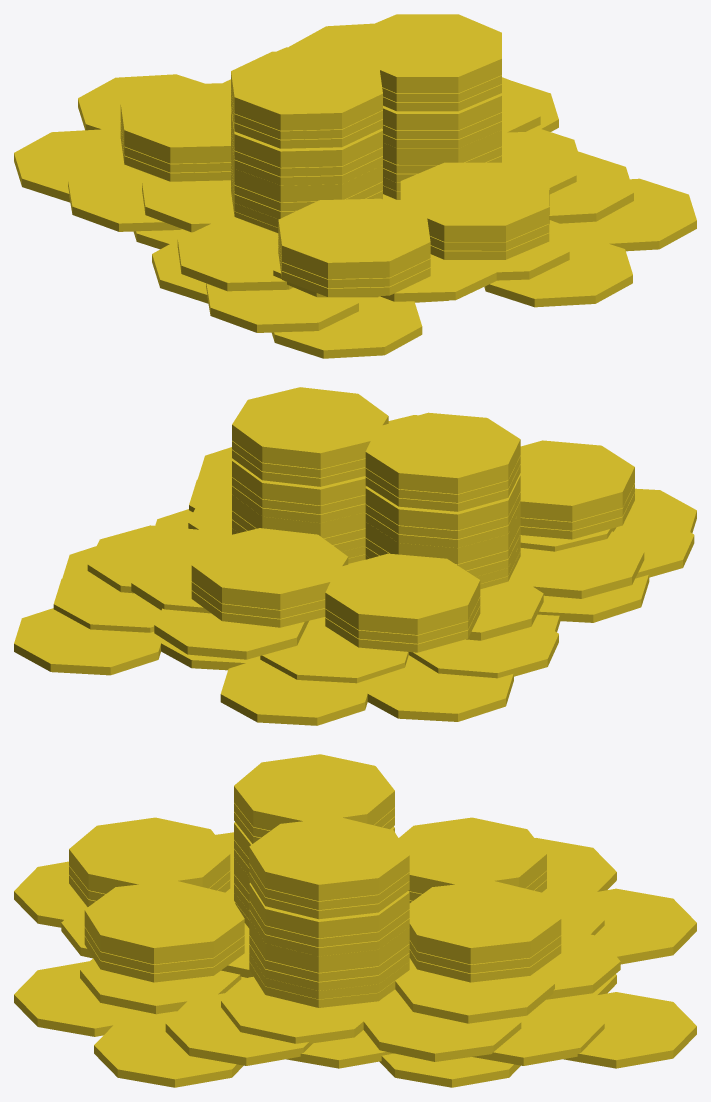
File: GoldCoinsPile.fbx
3 views of the same model, one above another, from view 1: azimuth 30°, elevation 25°; view 2: azimuth 150°, elevation 25°; view 3: azimuth 270°, elevation 25° (orthographic). The views are drawn at different scales.
Visible parts, largest first — view 1: Circle.001; view 2: Circle.001; view 3: Circle.001.
Part boxes in pixels (x1,y1,x2,y2): Circle.001: (14,14,696,358); Circle.001: (14,387,696,725); Circle.001: (14,754,696,1087).
Size of the model in its own units: 237 by 68.01 by 287.
